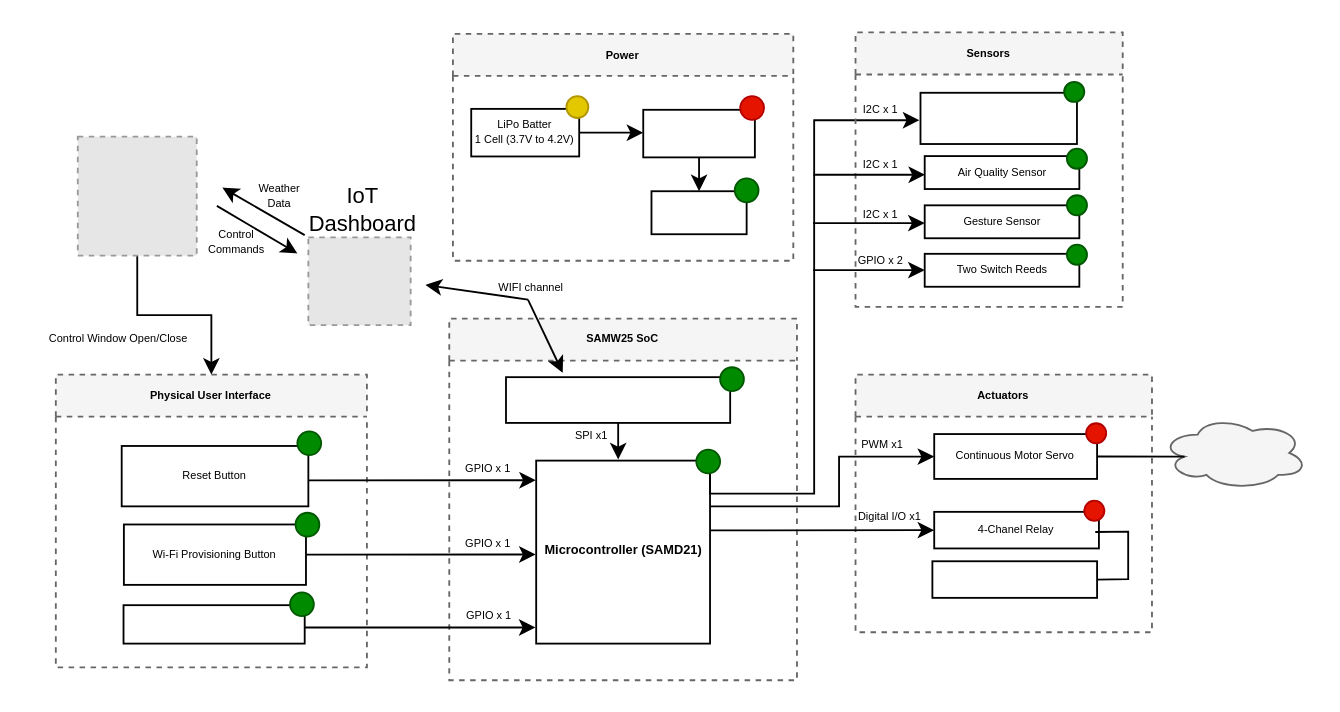
The diagram is 1340 pixels wide and 712 high, and some of its shapes have lost their labels. Grey dashed boxes stand in for pictures. The shapes that lost their labels are listed below. From the top down, each one's centre as x and y in pixels, then its label:
(x=698, y=132): Boost Circuit 5V / 6V
(x=998, y=117): Humidity & Temperature Sensors
(x=698, y=211): Buck Converter 3.3V
(x=617, y=399): WiFi Chip (WINC 1550)
(x=1233, y=452): Window
(x=1014, y=578): PDLC Film
(x=213, y=623): System Status LED
